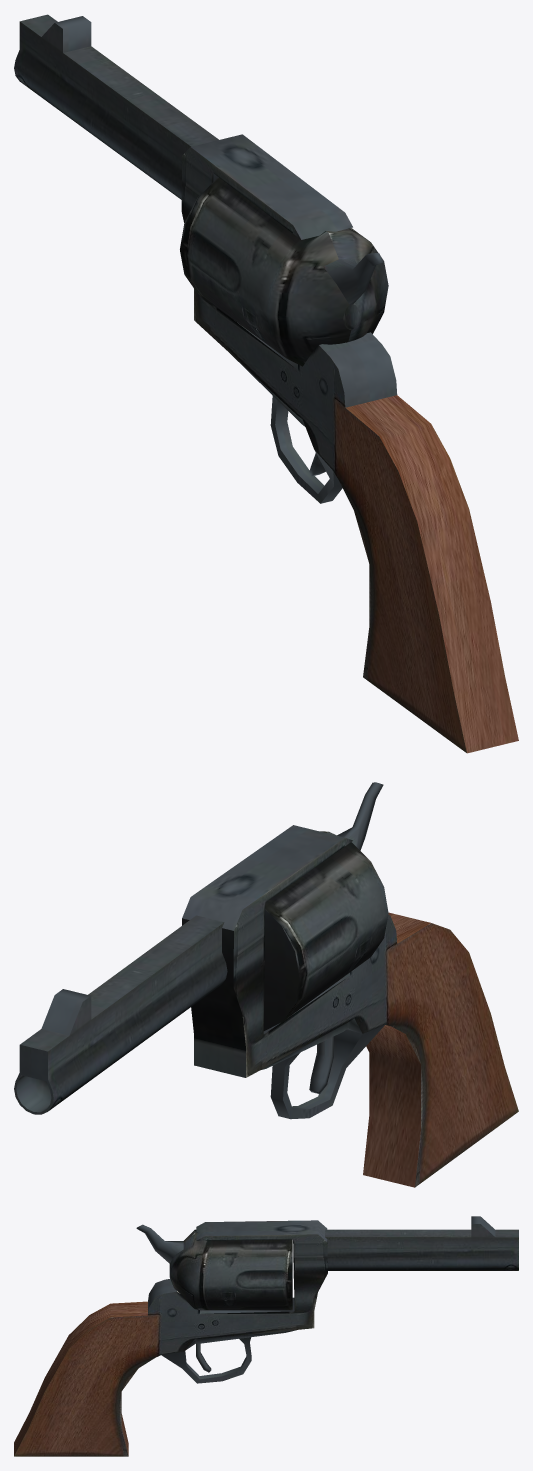
Rendered from peacemaker.FBX.
3 views of the same model, one above another, from view 1: azimuth 30°, elevation 25°; view 2: azimuth 150°, elevation 25°; view 3: azimuth 270°, elevation 25° (orthographic). The views are drawn at different scales.
Visible parts, largest first — view 1: cube3, cylinder4, cylinder6; view 2: cube3, cylinder6, cylinder4; view 3: cube3, cylinder4, cylinder6.
Part boxes in pixels (left/top/right/bottom): cube3: left=181, top=134, right=518, bottom=753; cylinder4: left=180, top=177, right=388, bottom=366; cylinder6: left=14, top=14, right=218, bottom=199; cube3: left=182, top=825, right=518, bottom=1187; cylinder6: left=14, top=915, right=227, bottom=1114; cylinder4: left=263, top=782, right=388, bottom=1030; cube3: left=14, top=1220, right=327, bottom=1456; cylinder4: left=136, top=1224, right=292, bottom=1310; cylinder6: left=325, top=1216, right=518, bottom=1270.
Size of the model in its own units: 11.73 by 77.79 by 39.
Materials: 1 (1 with a texture image).
